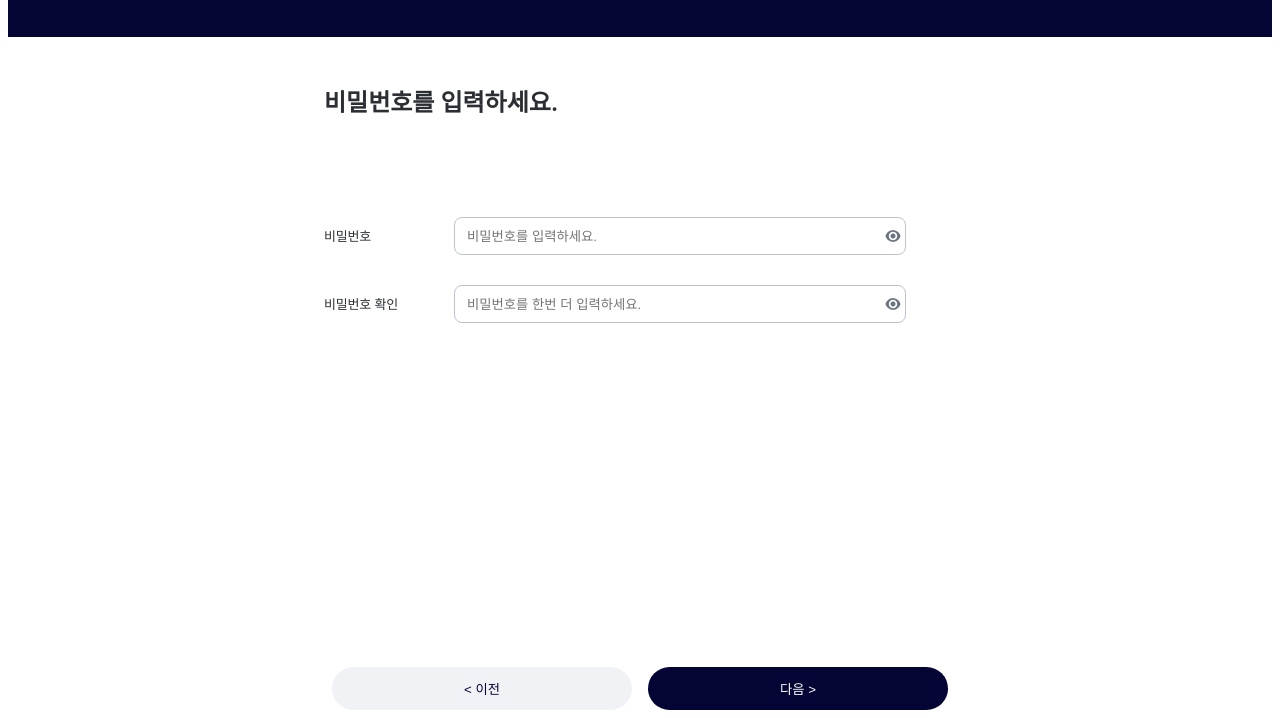
Test case: 회원가입 5페이지 › 패스워드 입력 › 패스워드 미입력 & 페이지 이동 시 에러메시지 출력
(page scrolled)
Step 1. Click the button with test id "next-button" → click(798, 688), box left=648, top=667, right=948, bottom=710
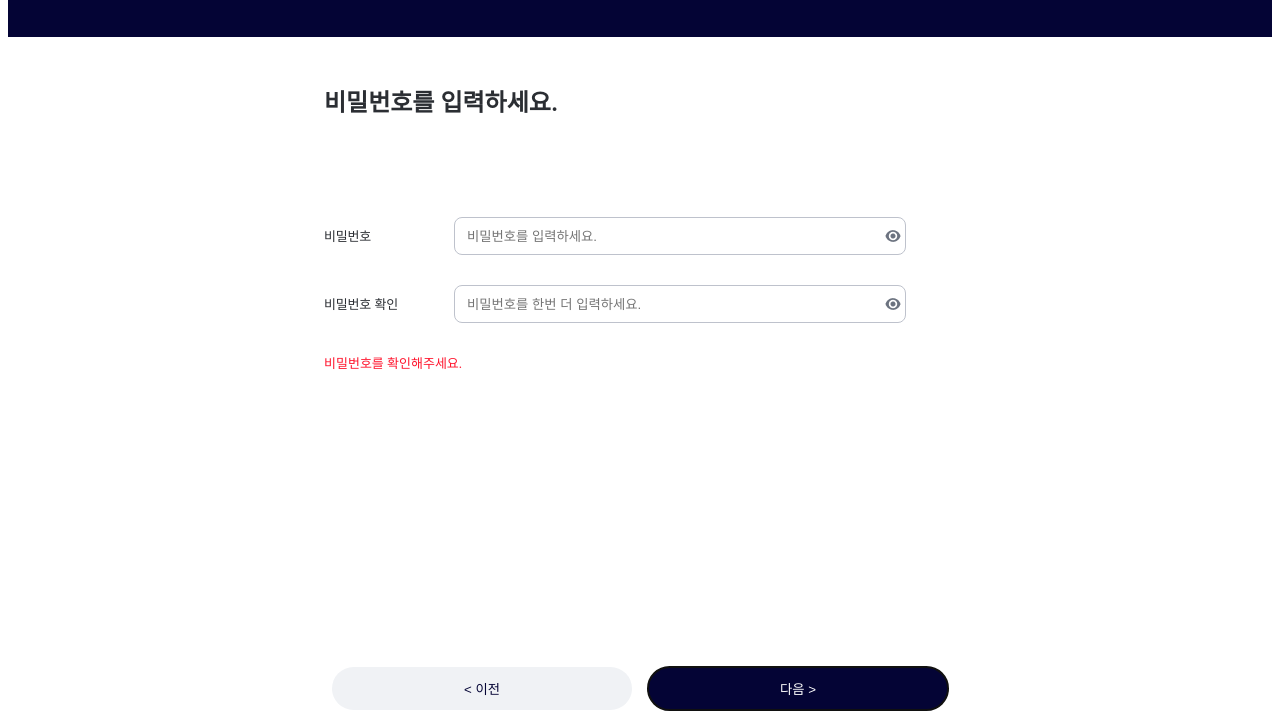
expect the text "비밀번호를 확인해주세요." is shown: met, box left=324, top=356, right=462, bottom=371
